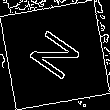N_SE: (23, 24, 87, 86)
